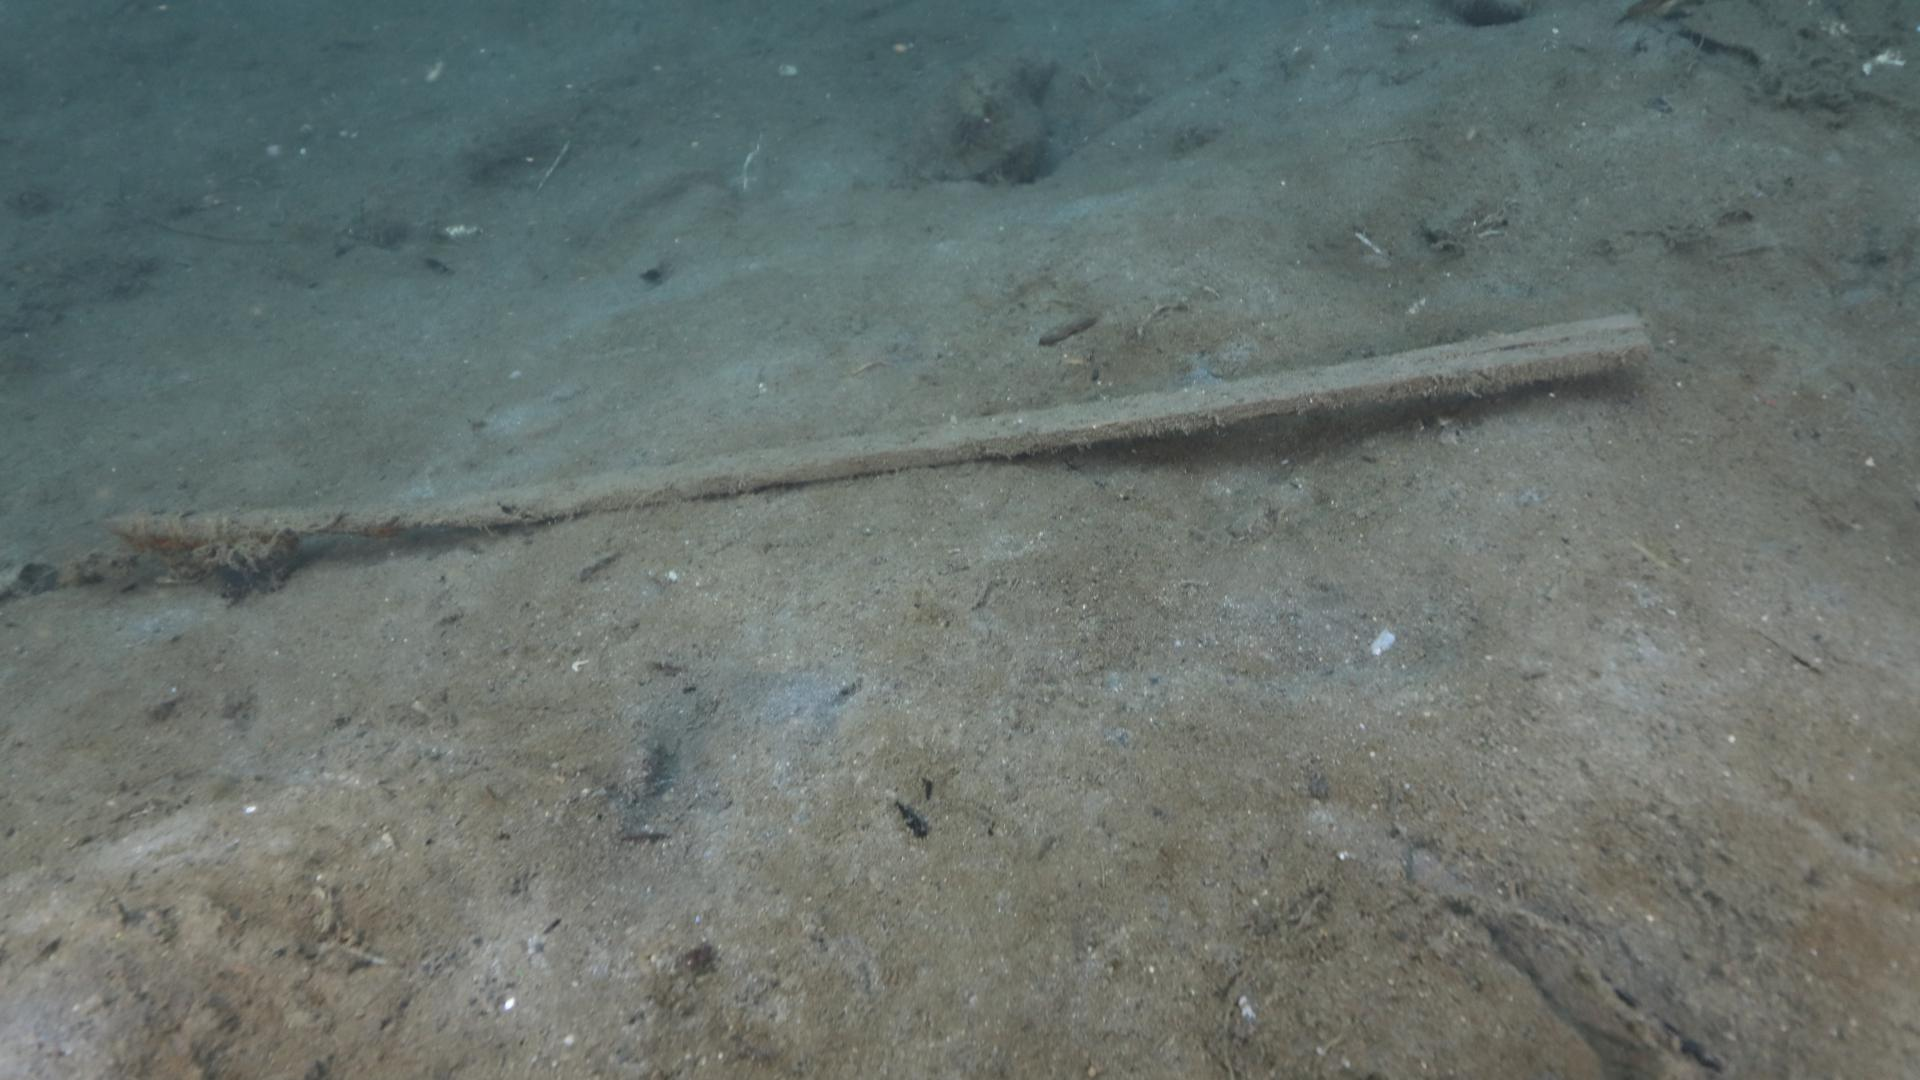wood: (102, 313, 1651, 547)
